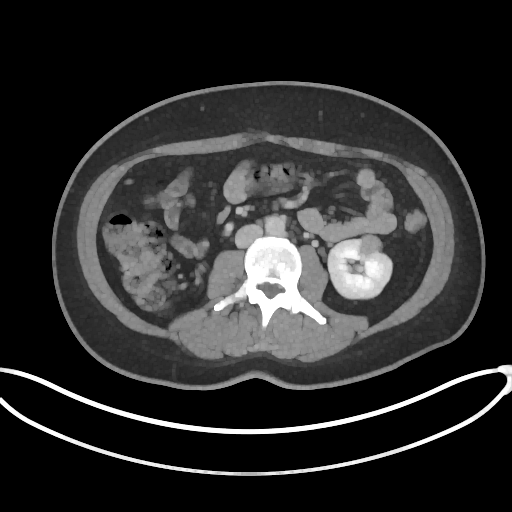Lesion: (360, 233, 383, 259)
